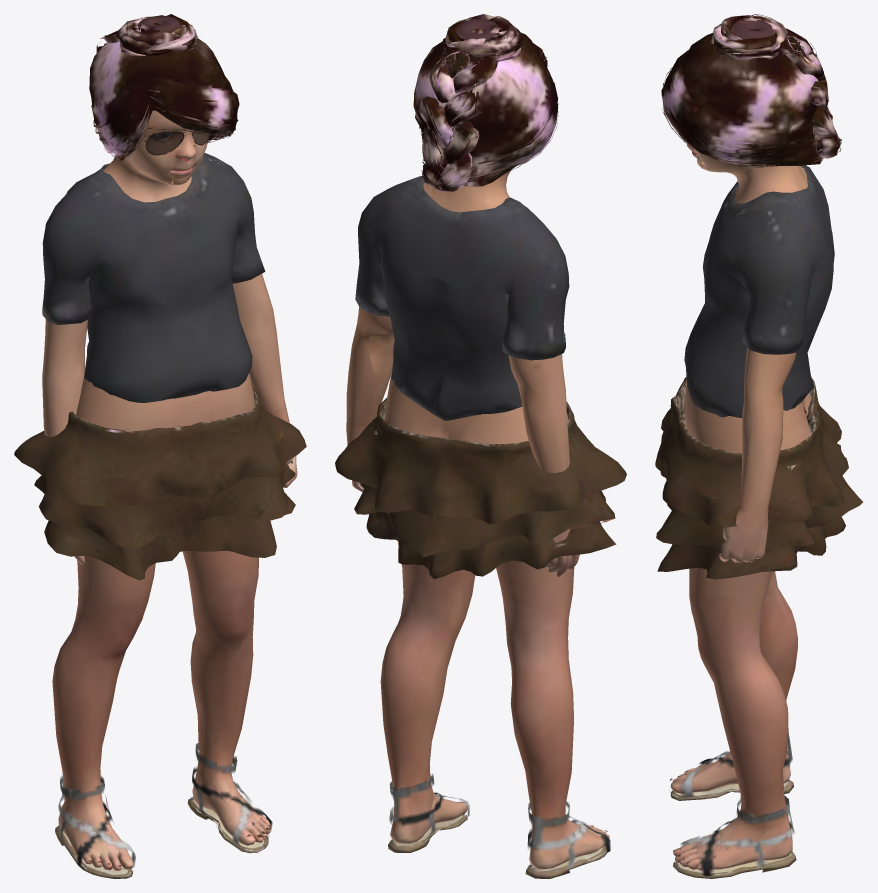
The picture shows the model from 3 angles, left to right: view 1: azimuth 30°, elevation 25°; view 2: azimuth 150°, elevation 25°; view 3: azimuth 270°, elevation 25°; orthographic projection. The views are drawn at different scales.
Visible parts, largest first — view 1: p00206; view 2: p00206; view 3: p00206.
Part boxes in pixels (x1,y1,x2,y2): p00206: (14, 14, 306, 878); p00206: (335, 14, 626, 878); p00206: (655, 14, 862, 878).
Size of the model in its own units: 0.425 by 1.3 by 0.3018.
1 material, 1 textured.
